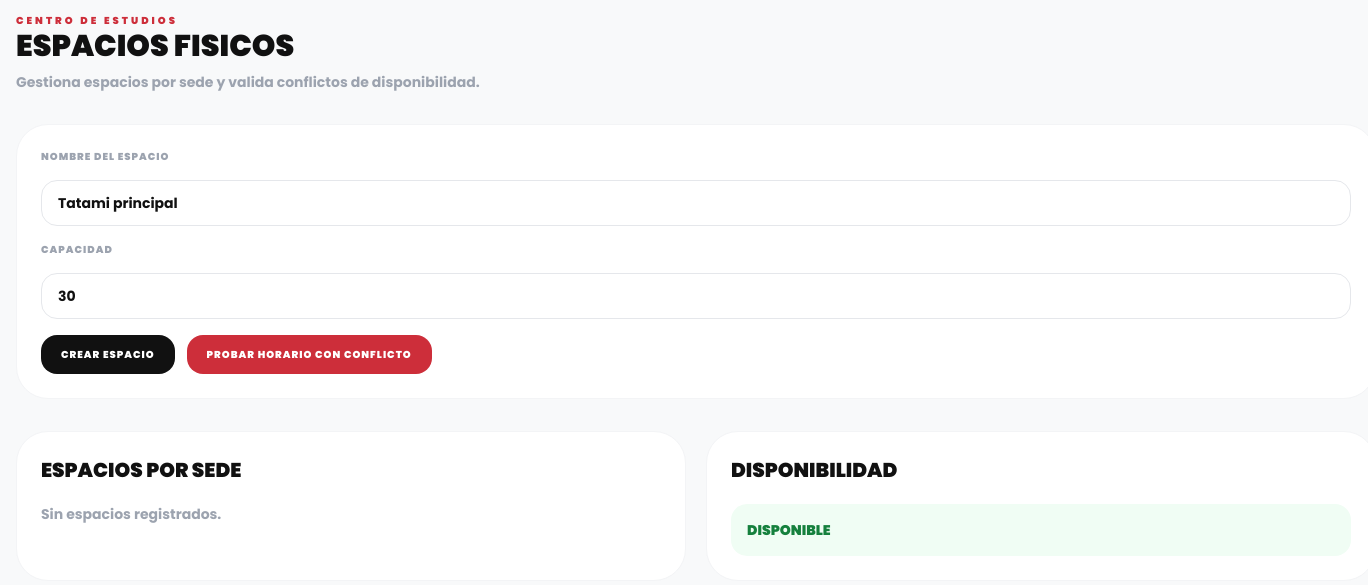
EspaciosView › muestra conflicto visual cuando hay reserva superpuesta
The width and height of the screenshot is (1368, 585).
Click the button "Probar horario con conflicto". click: [309, 354]
box: [187, 335, 432, 374]
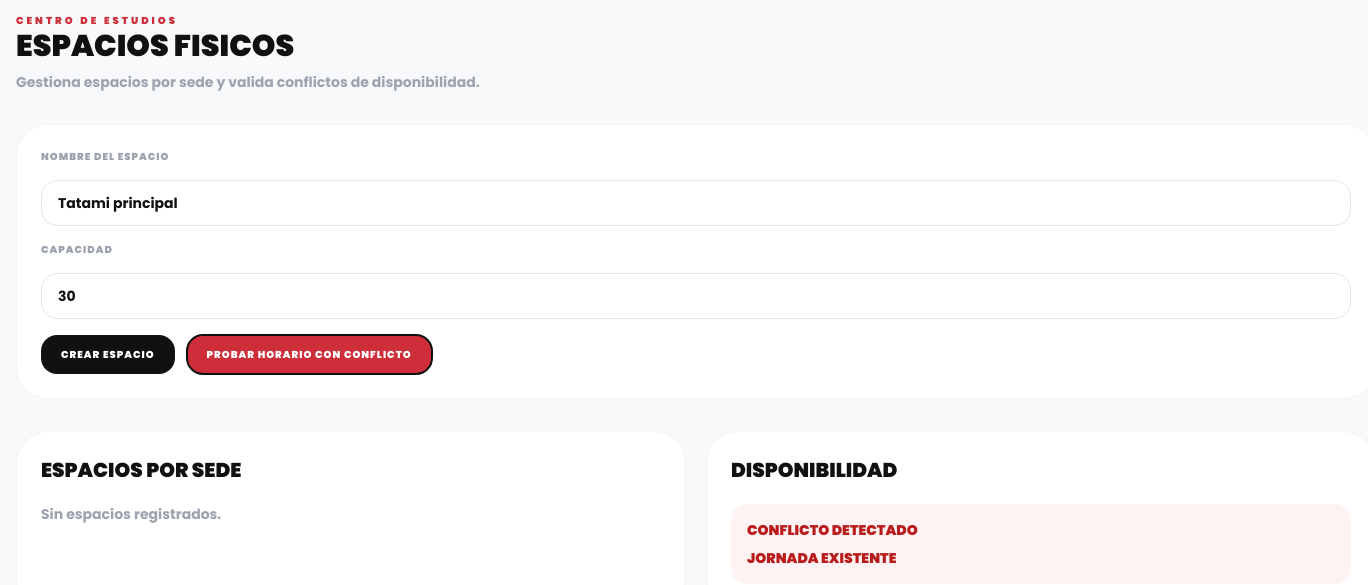
Expected: the text "Conflicto detectado" is shown, [747, 520, 918, 540]
Expected: the text "Jornada existente" is shown, [747, 548, 896, 568]
